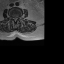CCS_normal: (14, 15, 16, 23)
LFS_severe_stenosis: (17, 15, 19, 20)
LLS_stenosis: (16, 15, 17, 21)
RFS_severe_stenosis: (11, 14, 12, 20)
RLS_normal: (12, 15, 14, 20)
